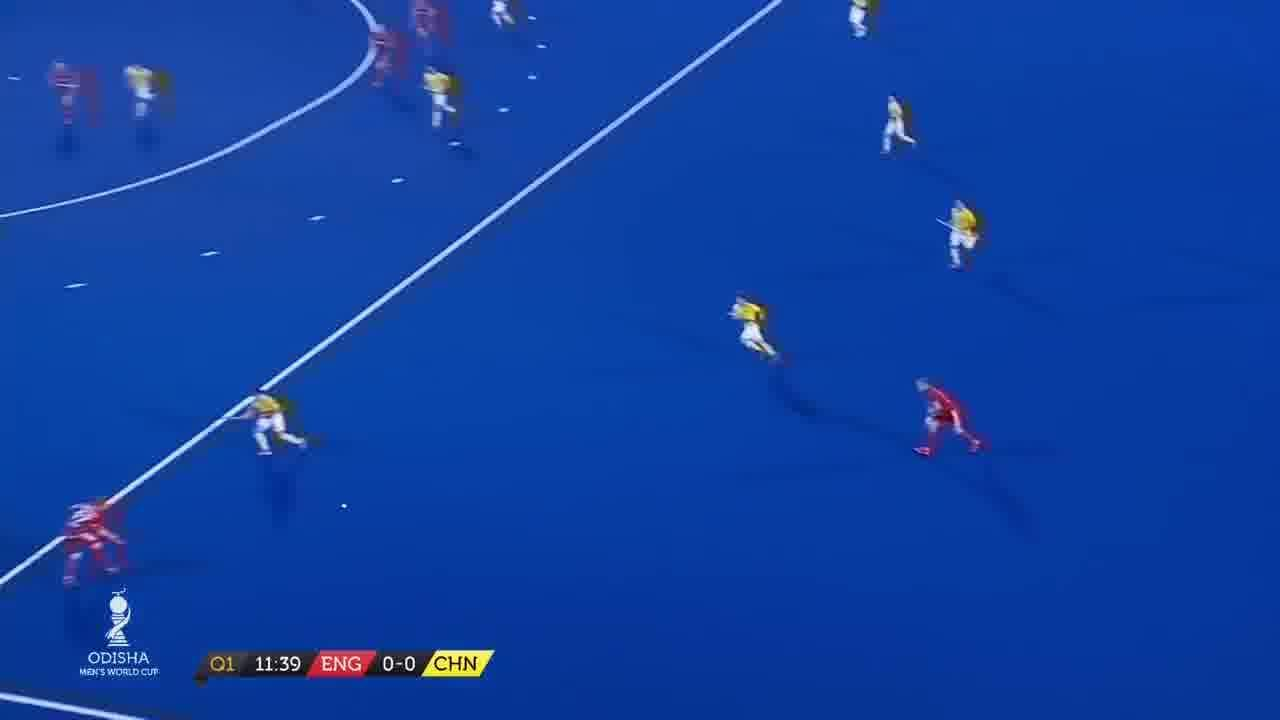ball: (340, 496, 352, 512)
